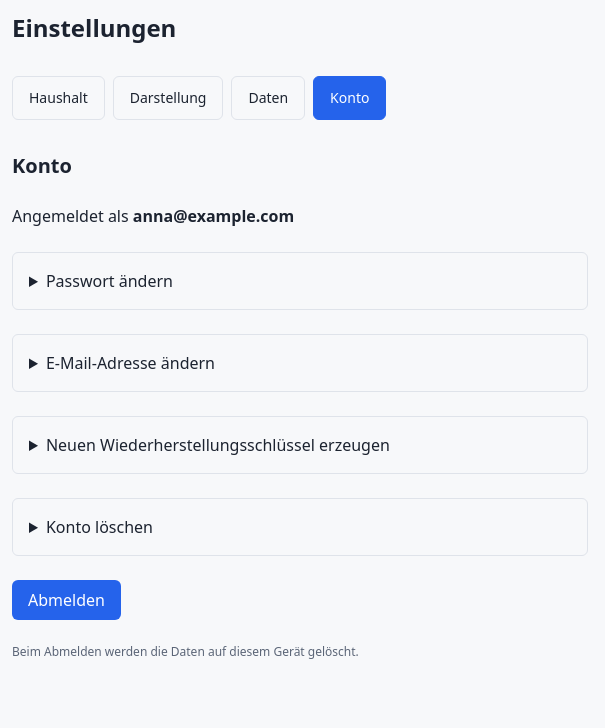
it: Einstellungen: Konto › Konto löschen: nach Bestätigung wird gelöscht, ein Fehler wird angezeigt
Expected: the heading "Konto" is shown, [12,152,72,179]
Step 1. Click the heading "Konto löschen" → coordinates (99, 527), box [46,516,153,538]
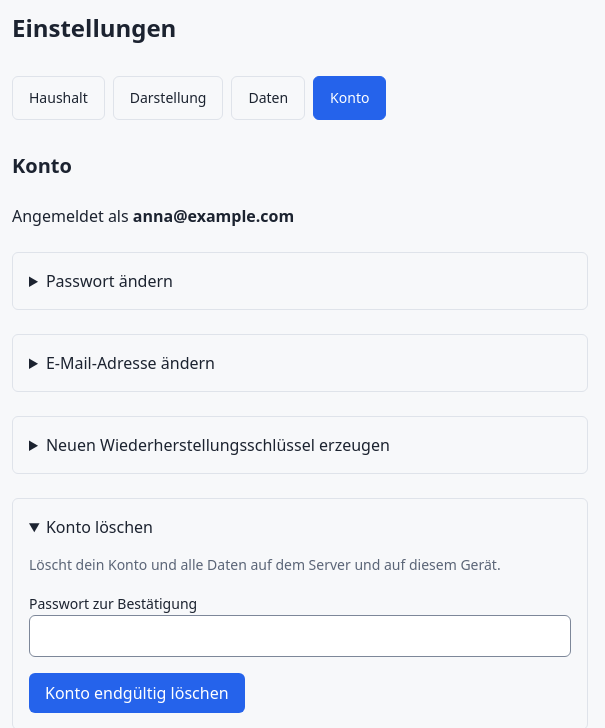
Step 2. Type "Mein-Passwort-123" into the password field labelled "Passwort zur Bestätigung" → coordinates (300, 636), box [29,615,571,657]
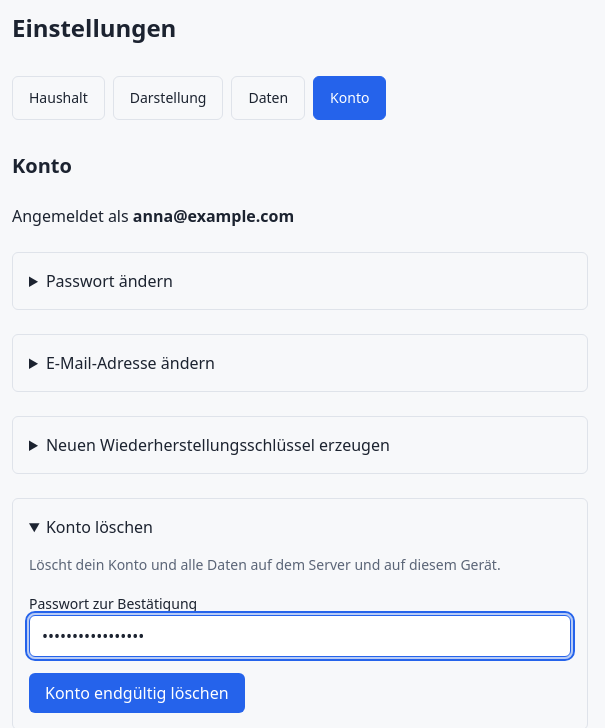
Step 3. Click the button "Konto endgültig löschen" → coordinates (137, 693), box [29,673,245,713]
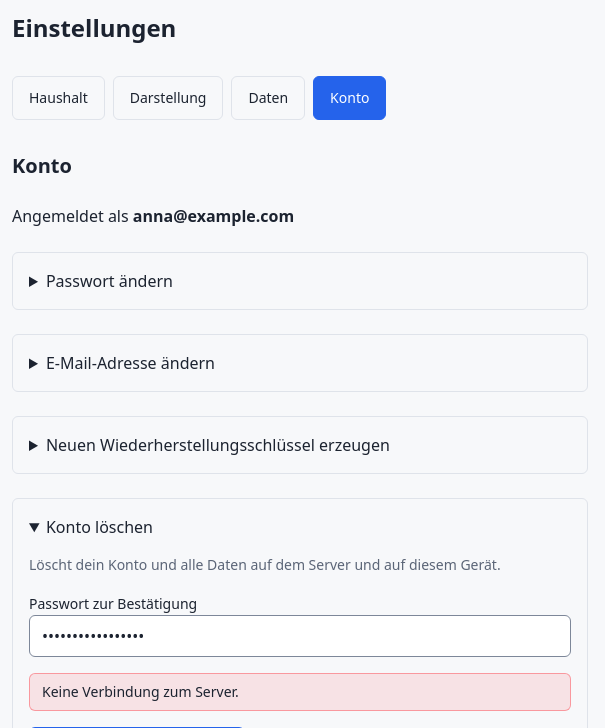
Expected: the message shows "Keine Verbindung", [42,682,239,701]
